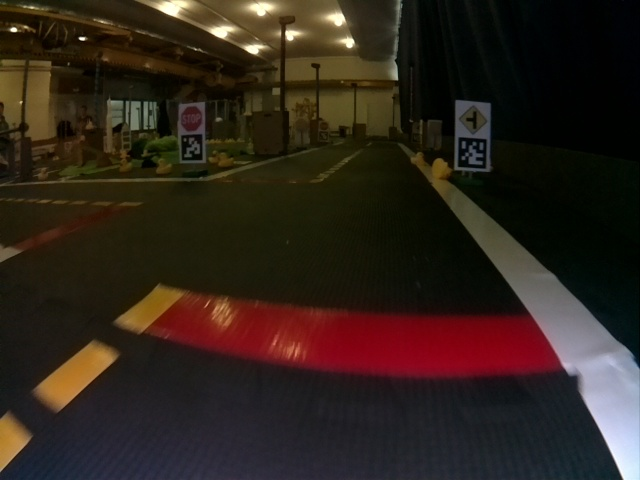Duckie: (432, 159, 449, 179), (157, 158, 172, 174), (411, 152, 425, 165), (218, 153, 231, 167), (119, 159, 129, 172), (38, 168, 46, 176)
Intersection sign: (459, 104, 487, 135)
QR code: (458, 138, 487, 169), (181, 135, 203, 161), (319, 132, 328, 141)
Stop sign: (180, 106, 202, 130), (319, 121, 328, 130)
